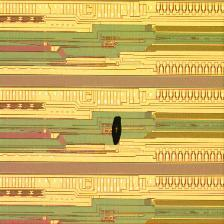PARTICLE: (108, 115, 126, 152)
